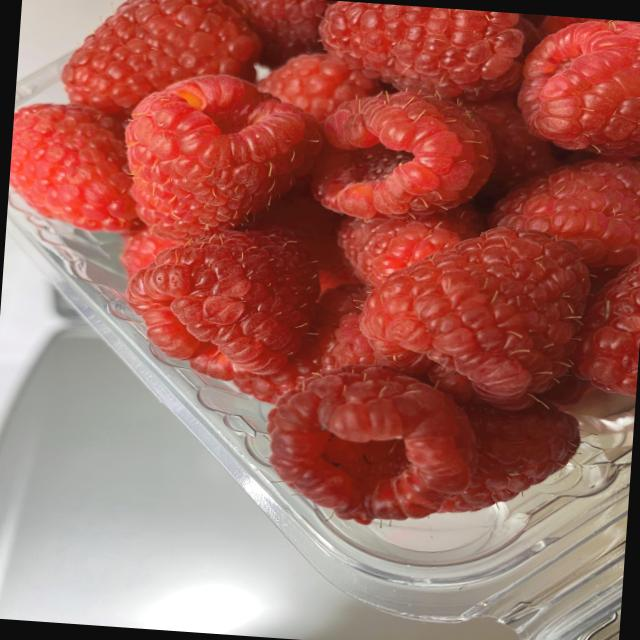raspberries: (60, 0, 640, 549)
